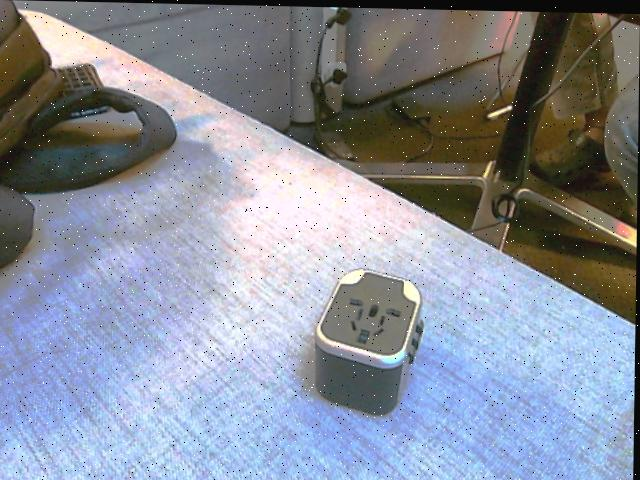adapter: (313, 265, 425, 414)
